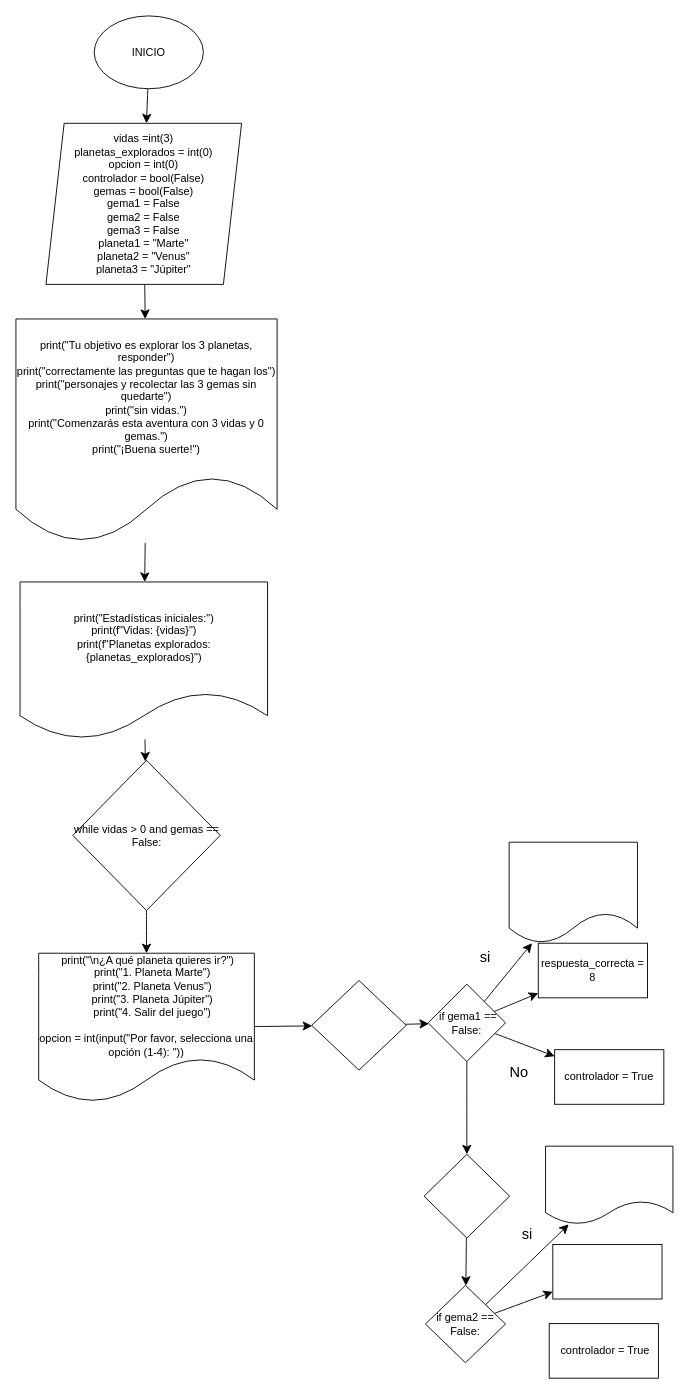
The diagram is 689 pixels wide and 1394 high, and some of its shapes have lost their labels. The box of each missing label's shape, as (x1, y1, x2, y2) in pixels:
elif opcion == 2:: (423, 1153, 510, 1238)
if opcion == 1:: (311, 980, 406, 1070)
print(f"¡Vamos a {planeta1}!") pregunta = "¿Cuánto es 3+5?": (508, 841, 637, 943)
print(f"¡Vamos a {planeta2}!") pregunta = "¿Cuánto es 7-4?": (545, 1145, 673, 1224)
respuesta_correcta = 3: (552, 1244, 662, 1299)
